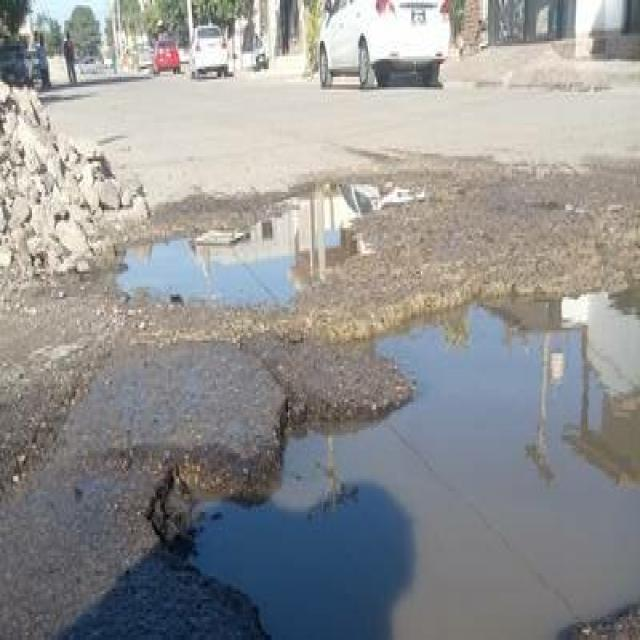Pothole: (98, 310, 530, 640)
